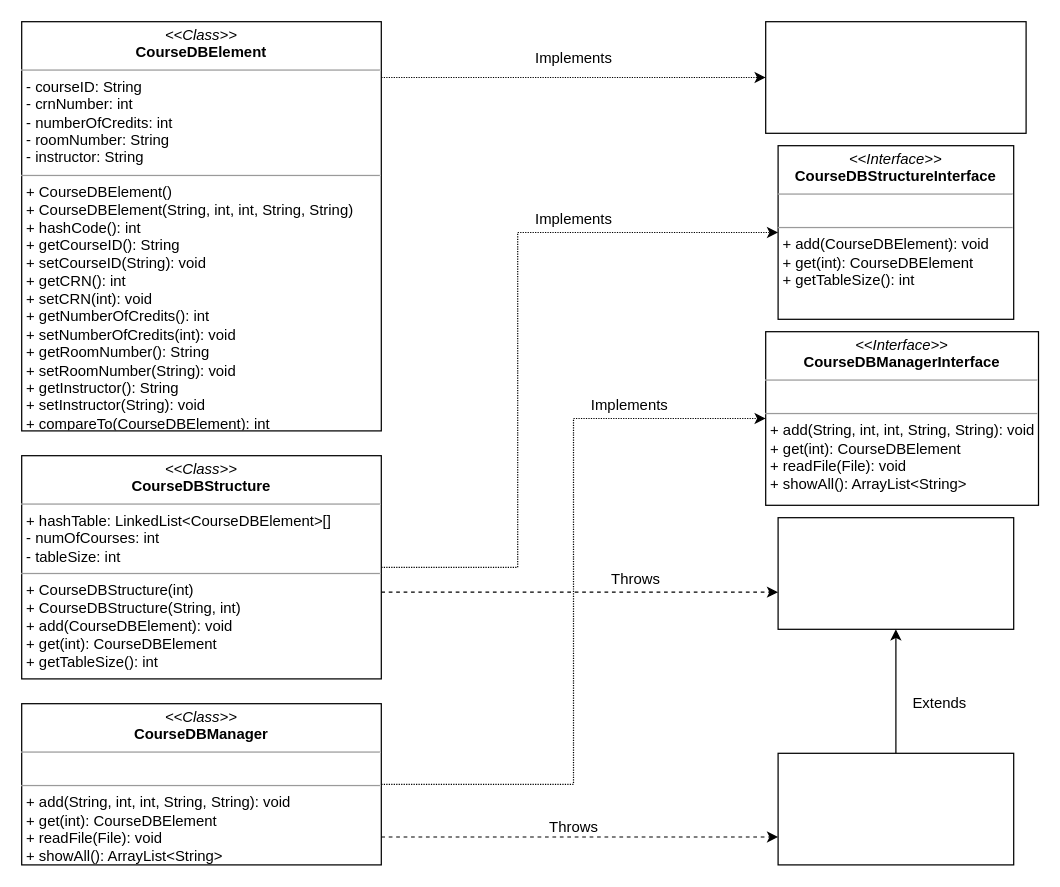
Some shapes in this 1060 by 887 pixel diagram are drawn without their labels. Each missing label, with the box of its shape:
<<Class>> java.io.FileNoFoundException: (777, 752, 1014, 865)
<<Class>> java.io.IOException: (777, 516, 1014, 629)
<<Interface>> Comparable + compareTo(CourseDBElement): int: (764, 20, 1026, 133)
